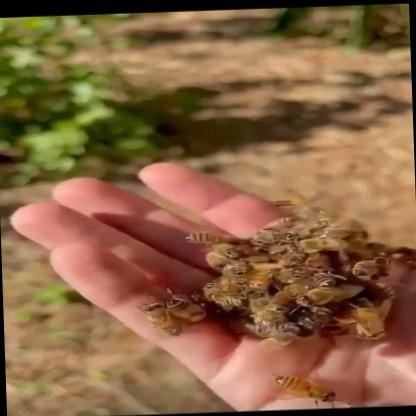bee: (115, 177, 416, 413)
